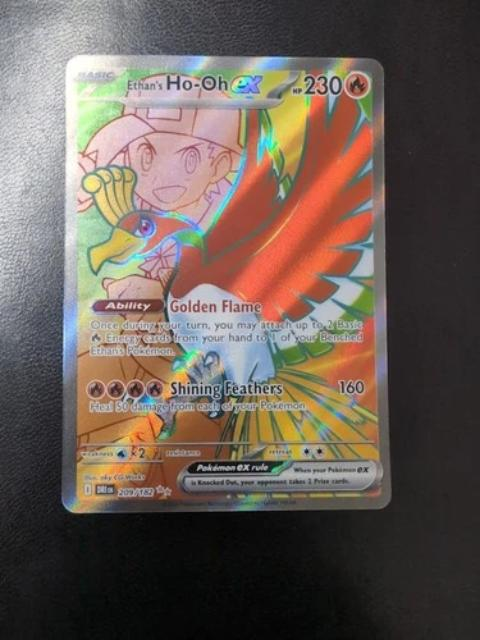Card: (57, 53, 397, 518)
Name: (123, 70, 269, 101)
